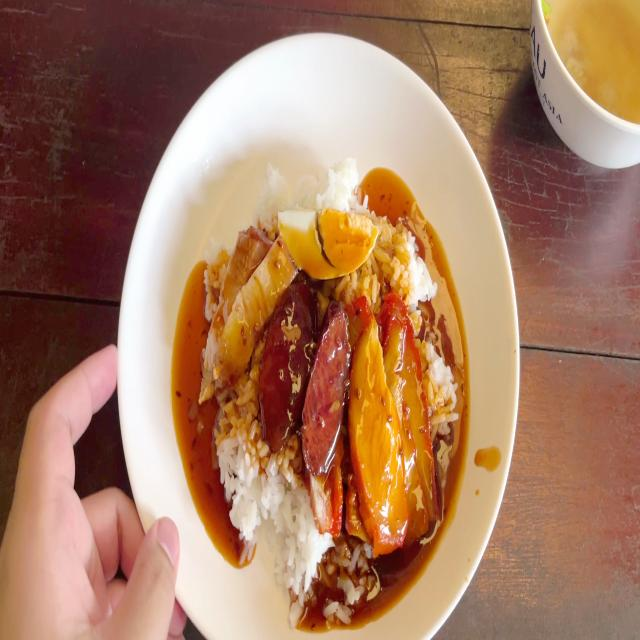boiled_egg: (281, 200, 375, 281)
chainese_sausage: (260, 287, 350, 451)
crispy_pork: (204, 224, 296, 396)
red_pork: (358, 303, 428, 530)
red_pork_and_crispy_pork: (220, 183, 448, 575)
rice: (254, 452, 314, 597), (224, 405, 263, 523)
